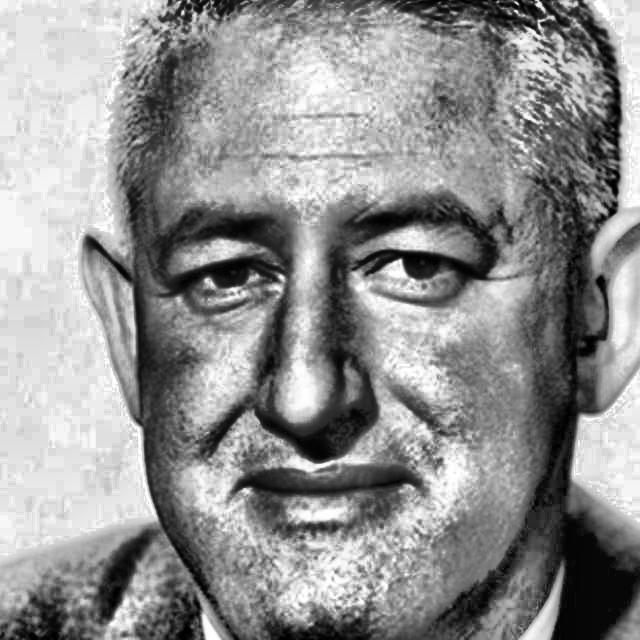sad: (152, 37, 587, 625)
